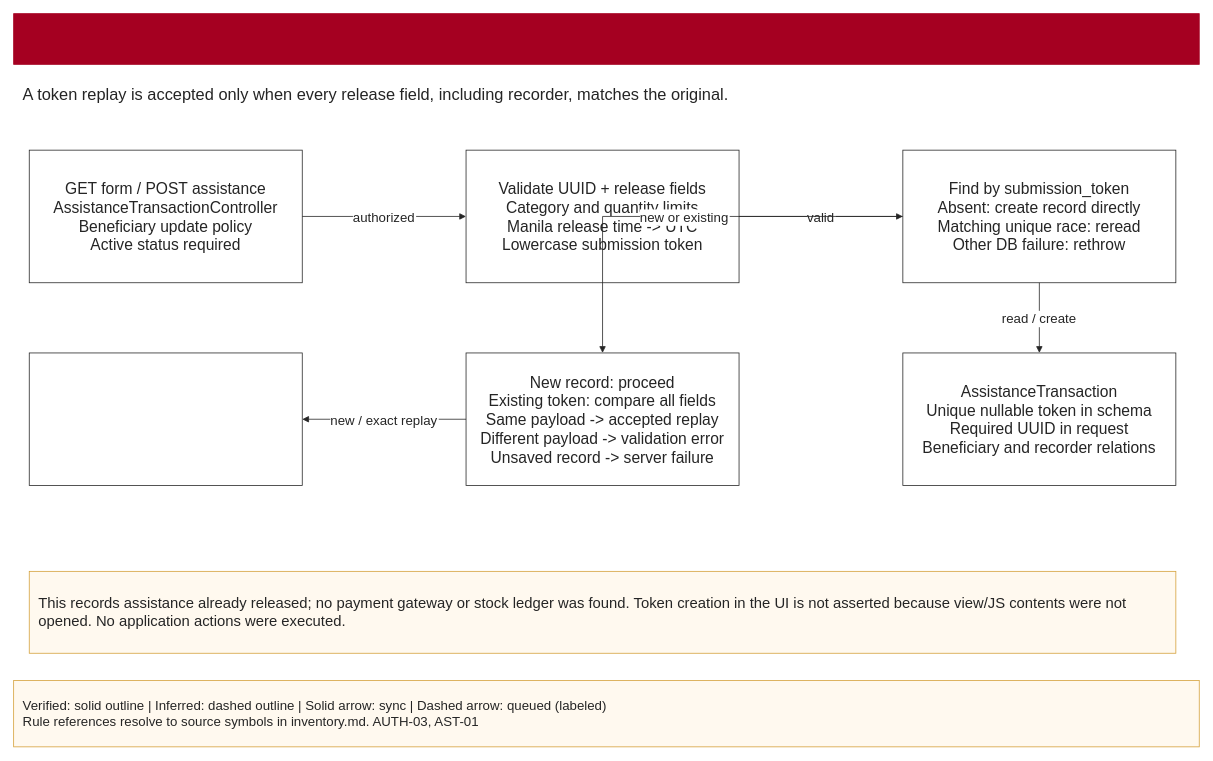
Some shapes in this 1213 by 761 pixel diagram are drawn without their labels. The shapes that lost their labels are listed below. From the top down, each one's centre as x and y in pixels, then its label:
the point at 606,38: 06A | Assistance release and idempotency
the point at 165,419: Redirect beneficiary profile New: release recorded Replay: no duplicate created
